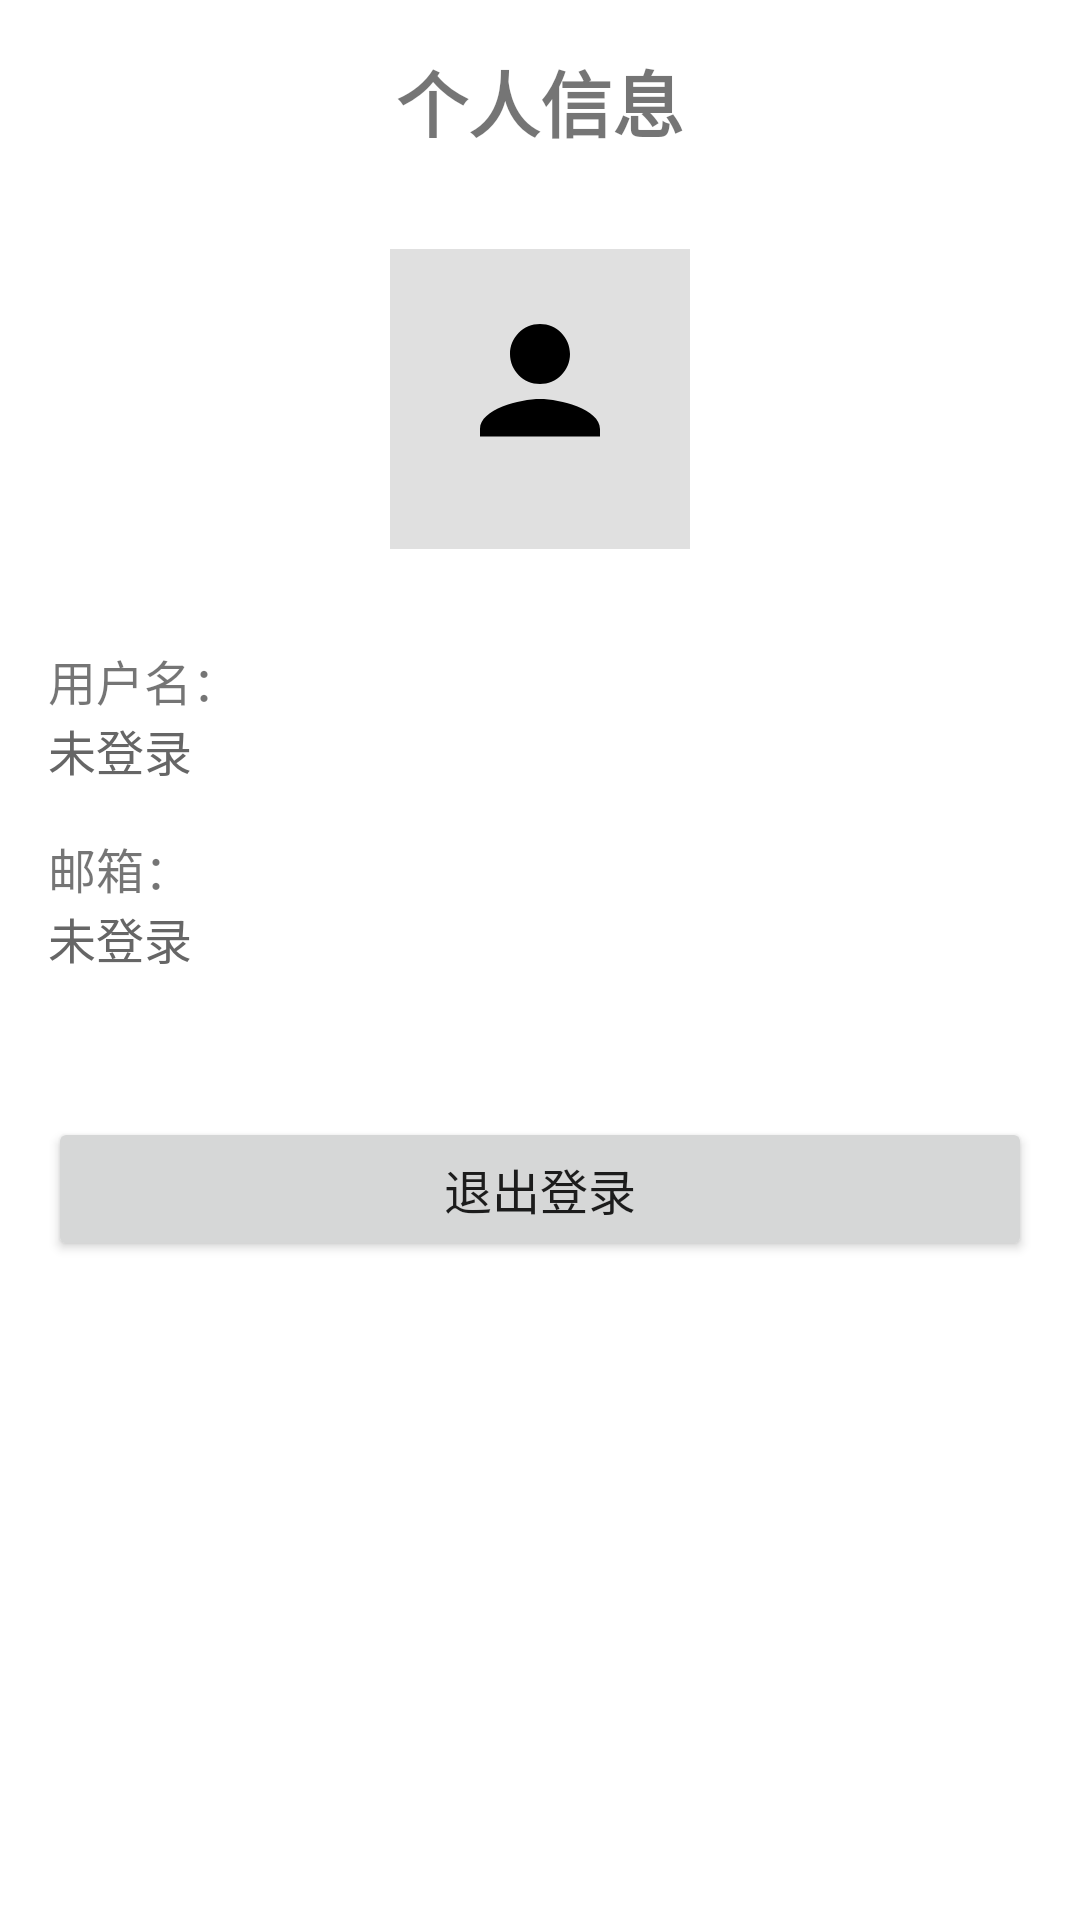

Named icons in this screenshot (1080w x 1920h) and their bounding boxes, (x1, y1, x2, y2):
profile: (390, 249, 690, 549)
